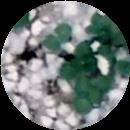Basil: (62, 42, 92, 82), (39, 23, 71, 52), (70, 79, 95, 114), (85, 75, 113, 106), (92, 15, 119, 39)
